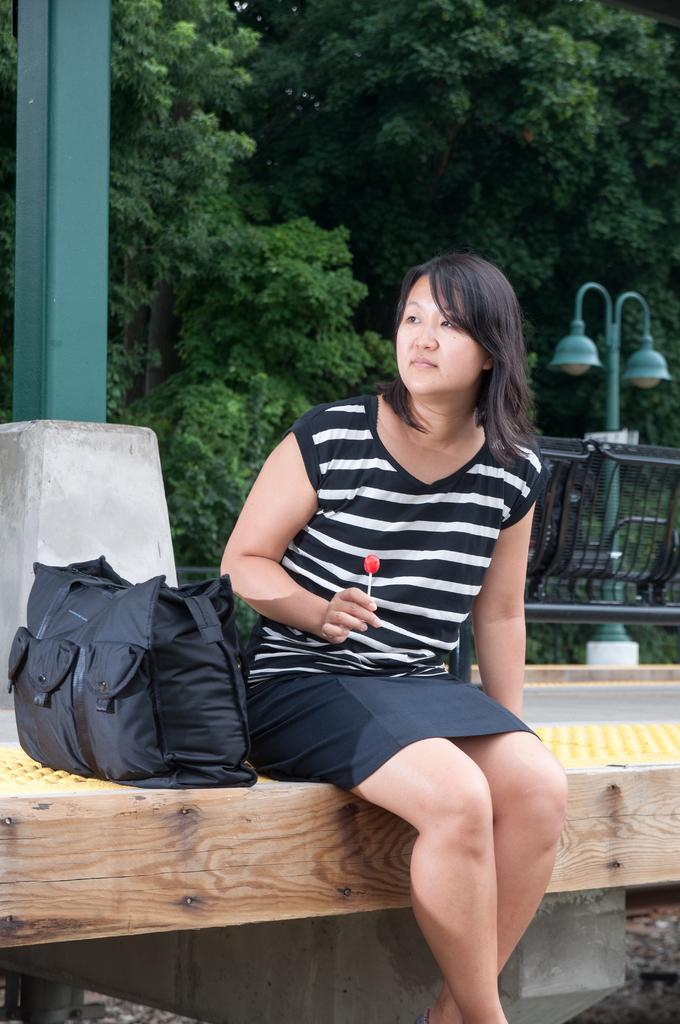Luggage-and-bags: (1, 554, 270, 807)
